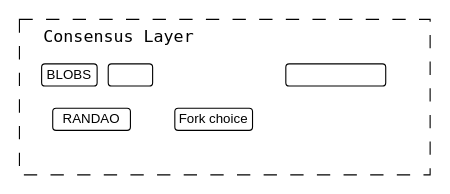
This 450x194 diagram has some shape labels left out. The box of each missing label's shape, as (x1, y1, x2, y2) in pixels:
LMD - GHOST: (285, 63, 386, 86)
P2P: (107, 63, 153, 86)
